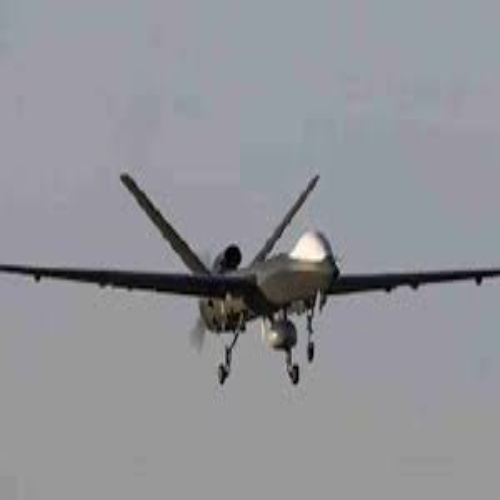uav: (3, 173, 500, 391)
